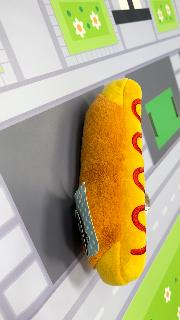hotdog: (74, 78, 148, 286)
